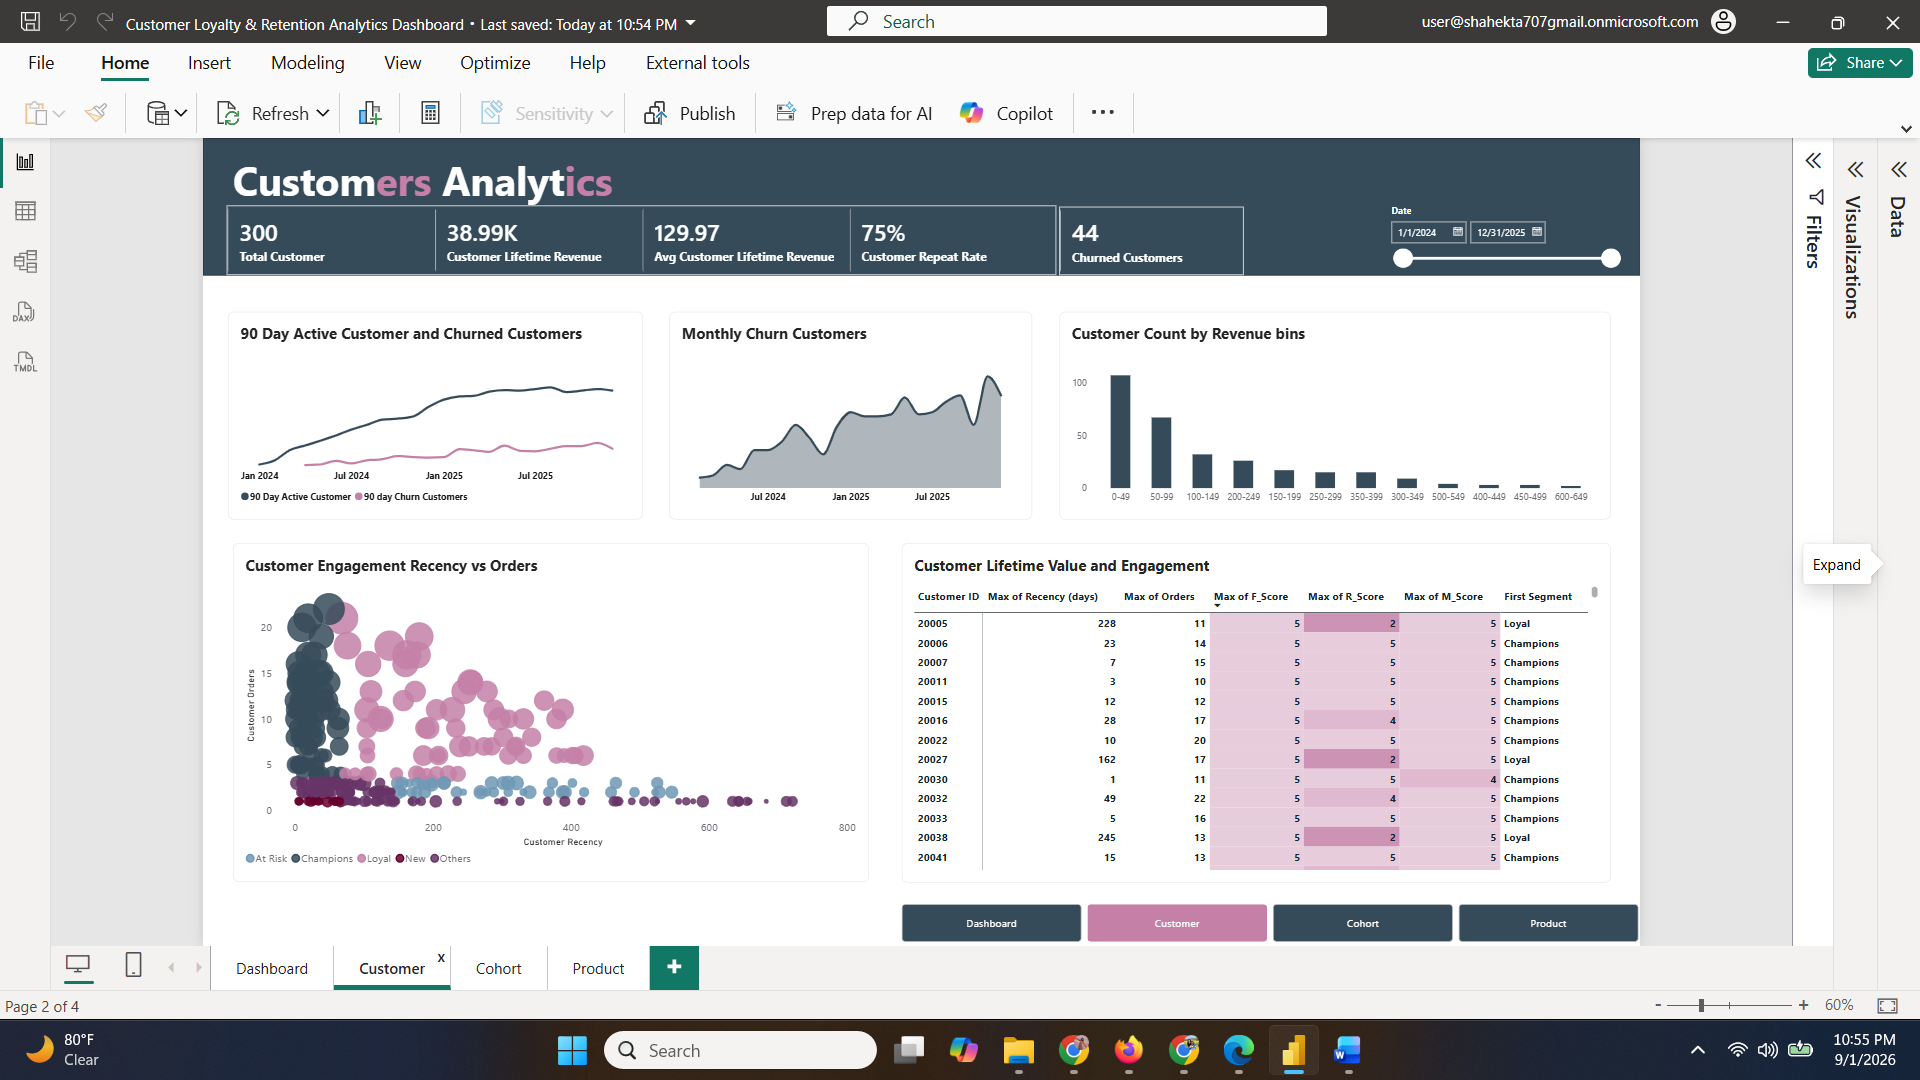

Layout of this report page (visuals, bound fields, positions):
{"tool":"powerbi","page":{"name":"Customer","canvas":[1920,1080],"ordinal":1},"visuals":[{"type":"shape","box":[0,0,1920,183.7],"z":0},{"type":"textbox","box":[39.7,20.9,571.8,89.7],"z":500},{"type":"cardVisual","fields":{"Data":["_Measures.Total Customer","_Measures.Customer Lifetime Revenue","_Measures.Average Customer Lifetime Revenue","_Measures.Repeat Rate"]},"box":[31.7,90.2,1110.3,93.9],"z":1000},{"type":"areaChart","title":"Monthly Churn Customers ","fields":{"Category":["Dim_Date.YearMonth"],"Y":["_Measures.Monthly Churn Customers"]},"box":[623.2,232.3,484.5,277.4],"z":2000},{"type":"lineChart","title":"90 Day Active Customer and Churned Customers","fields":{"Category":["Dim_Date.YearMonth"],"Y":["_Measures.90 Day Active Customer","_Measures.90 day Churn Customers"]},"box":[34.2,232.3,554.7,277.4],"z":3000},{"type":"scatterChart","title":"Customer Engagement Recency vs Orders","fields":{"Category":["Dim_Customers.Customer ID"],"Series":["Dim_Customers.Segment"],"Size":["Sum(Fact_OnlineSales.Revenue)"],"X":["_Measures.Customer Recency"],"Y":["_Measures.Customer Orders"]},"box":[39.7,540.5,849.4,452.9],"z":4000},{"type":"clusteredColumnChart","title":"Customer Count by Revenue bins","fields":{"Category":["Dim_Customers.Bin Label"],"Y":["CountNonNull(Dim_Customers.Customer ID)"]},"box":[1143.7,232.3,736.7,277.4],"z":5000},{"type":"pivotTable","title":"Customer Lifetime Value and Engagement","fields":{"Rows":["Dim_Customers.Customer ID"],"Values":["Max(Dim_Customers.Recency (days))","Max(Dim_Customers.Orders)","Max(Dim_Customers.F_Score)","Max(Dim_Customers.R_Score)","Max(Dim_Customers.M_Score)","Min(Dim_RFM.Segment)"]},"box":[933,540.3,947.4,453.9],"z":6000},{"type":"pageNavigator","box":[933,1023,987,50.4],"z":7000},{"type":"slicer","fields":{"Values":["Dim_Date.Date"]},"box":[1562.9,90.2,317.2,96],"z":8001},{"type":"cardVisual","fields":{"Data":["_Measures.Total Churned"]},"box":[1143.7,91.8,246.3,91.8],"z":8002}]}

Visuals, with their boxes on the page's 1920x1080 design canvas (x1, y1, x2, y2). These are canvas units, not pixel positions in the 1920x1080 screenshot, which may show the page scaled, cropped or inside an application window:
shape: 0 0 1920 184
textbox: 40 21 612 111
cardVisual - _Measures.Total Customer x _Measures.Customer Lifetime Revenue: 32 90 1142 184
"Monthly Churn Customers " areaChart: 623 232 1108 510
"90 Day Active Customer and Churned Customers" lineChart: 34 232 589 510
"Customer Engagement Recency vs Orders" scatterChart: 40 540 889 993
"Customer Count by Revenue bins" clusteredColumnChart: 1144 232 1880 510
"Customer Lifetime Value and Engagement" pivotTable: 933 540 1880 994
pageNavigator: 933 1023 1920 1073
slicer - Dim_Date.Date: 1563 90 1880 186
cardVisual - _Measures.Total Churned: 1144 92 1390 184
